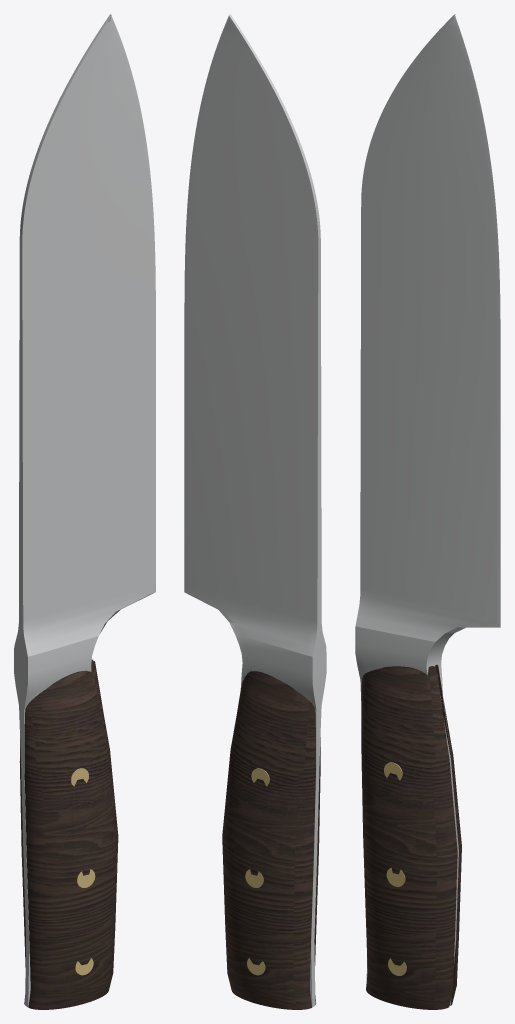
Rendered from chef.glb.
The picture shows the model from 3 angles, left to right: view 1: azimuth 30°, elevation 25°; view 2: azimuth 150°, elevation 25°; view 3: azimuth 330°, elevation 25°; orthographic projection. The views are drawn at different scales.
Parts seen in each view (by area): view 1: chef_blade, chef_scale_b, chef_scale_a; view 2: chef_blade, chef_scale_a, chef_scale_b; view 3: chef_blade, chef_scale_b, chef_scale_a.
Boxes of the visible parts, x1,y1,x2,y2 form: chef_blade: (14, 14, 155, 1007); chef_scale_b: (24, 661, 118, 1009); chef_scale_a: (19, 659, 93, 1004); chef_blade: (184, 14, 326, 1007); chef_scale_a: (222, 671, 315, 1009); chef_scale_b: (314, 737, 320, 1004); chef_blade: (355, 14, 500, 1005); chef_scale_b: (361, 666, 457, 1009); chef_scale_a: (435, 664, 461, 1005).
Size of the model in its own units: 0.048 by 0.33 by 0.0204.
Materials: 3 (1 with a texture image).
